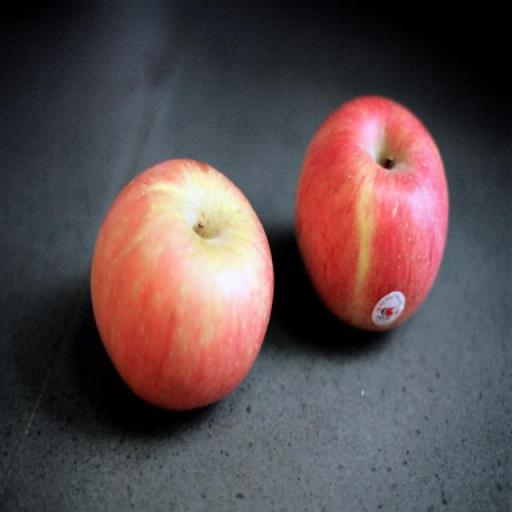fruit: (92, 160, 273, 409), (296, 97, 447, 330)
